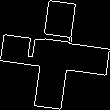L_E: (28, 36, 82, 74)
